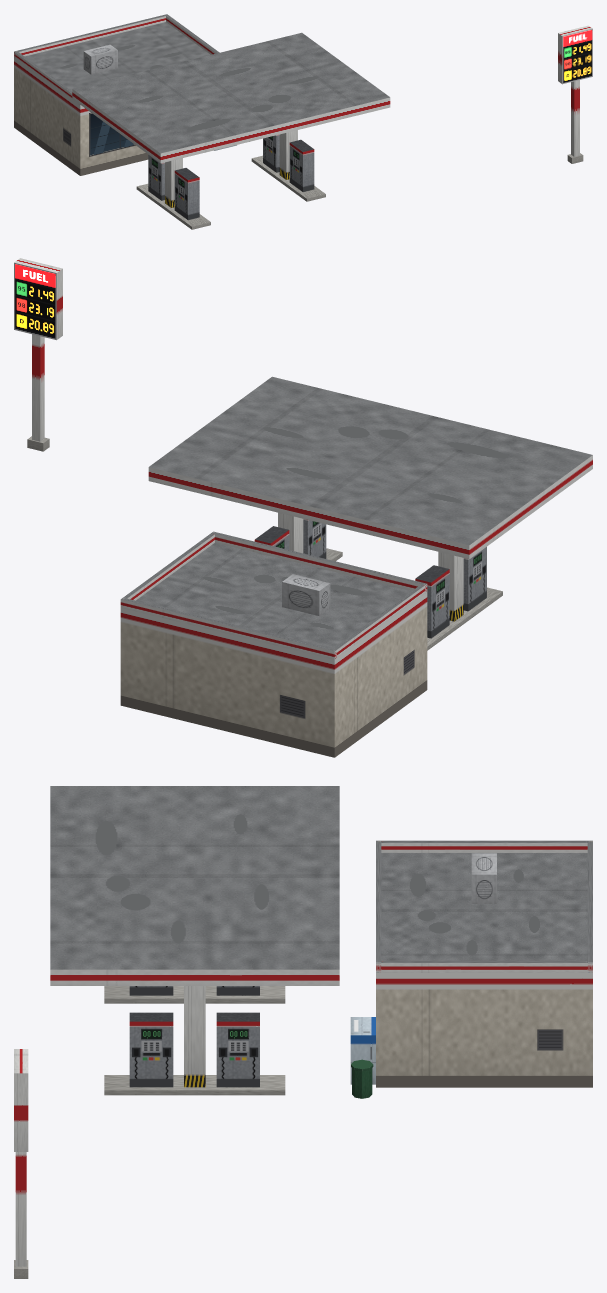
File: prop_gas_station.glb
3 renders of one model, top to bottom at view 1: azimuth 30°, elevation 25°; view 2: azimuth 150°, elevation 25°; view 3: azimuth 270°, elevation 25°, orthographic. The views are drawn at different scales.
Visible parts, largest first — view 1: prop_gas_station; view 2: prop_gas_station; view 3: prop_gas_station.
Part boxes in pixels (x1,y1,x2,y2): prop_gas_station: (14, 14, 592, 229); prop_gas_station: (14, 258, 592, 757); prop_gas_station: (14, 786, 592, 1278).
Size of the model in its own units: 22 by 6.5 by 16.
1 material, 1 textured.
